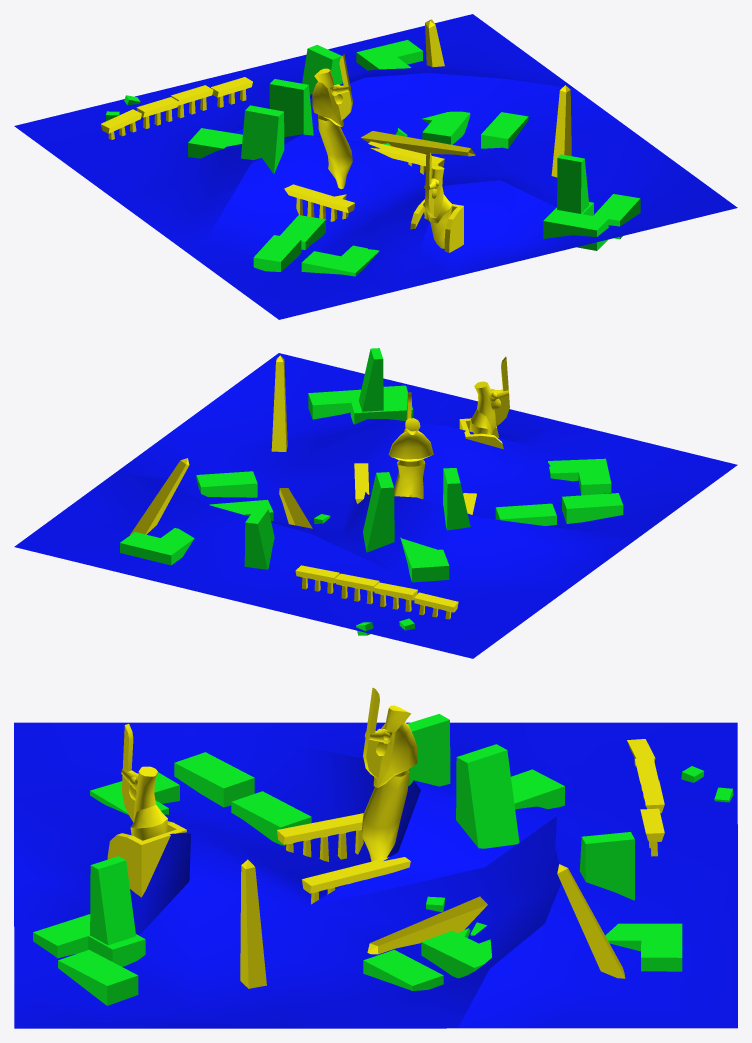
Rendered from mesh_lostvalley_02.FBX.
3 views of the same model, one above another, from view 1: azimuth 30°, elevation 25°; view 2: azimuth 150°, elevation 25°; view 3: azimuth 270°, elevation 25° (orthographic). The views are drawn at different scales.
Visible parts, largest first — view 1: lostvalley_02; view 2: lostvalley_02; view 3: lostvalley_02.
Part boxes in pixels (x1=…): lostvalley_02: x1=14, y1=14, x2=737, y2=319; lostvalley_02: x1=14, y1=348, x2=737, y2=658; lostvalley_02: x1=14, y1=688, x2=737, y2=1028.
Size of the model in its own units: 20.01 by 6.93 by 20.01.
